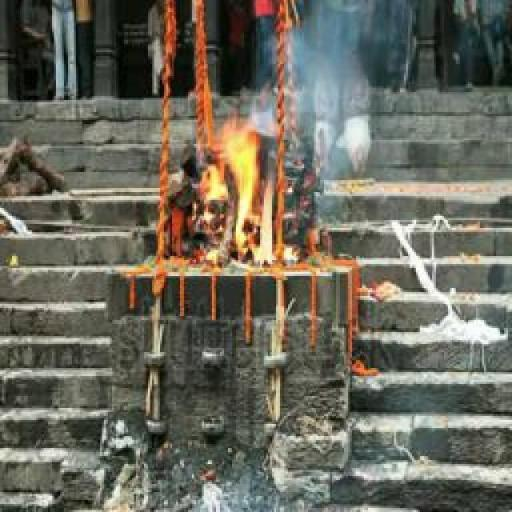smoke: (199, 115, 276, 267)
